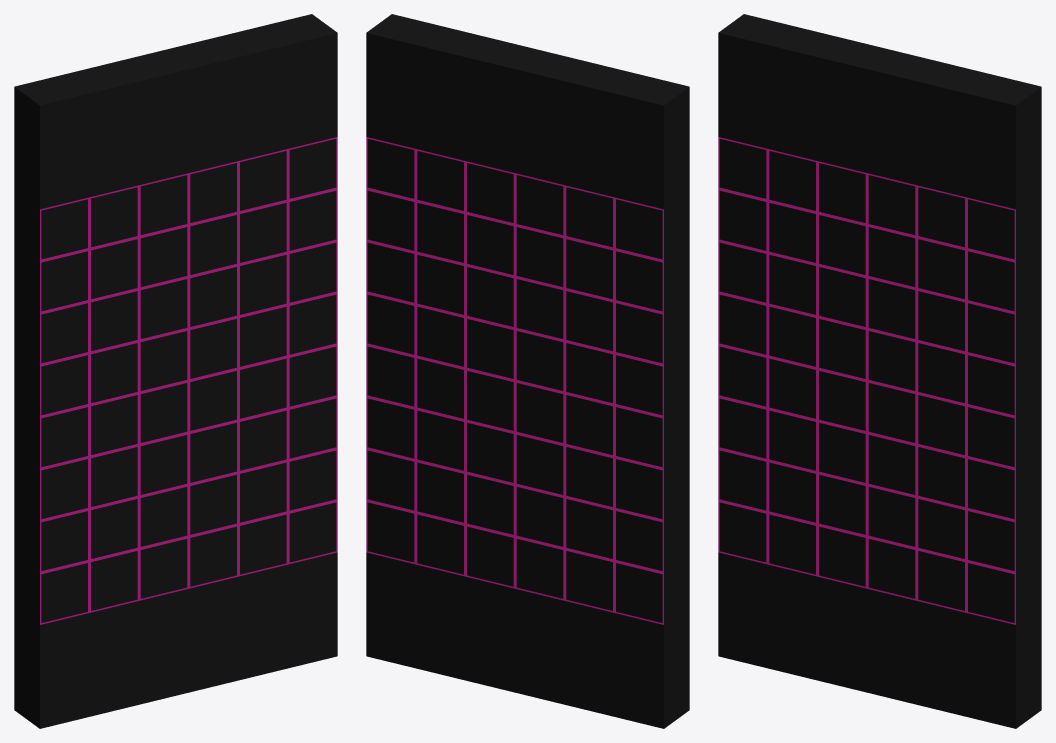
Rendered from LEDGridWall.glb.
The picture shows the model from 3 angles, left to right: view 1: azimuth 30°, elevation 25°; view 2: azimuth 150°, elevation 25°; view 3: azimuth 330°, elevation 25°; orthographic projection.
Parts seen in each view (by area): view 1: wall_grid; view 2: wall_grid; view 3: wall_grid.
Boxes of the visible parts, bbox=[...] form: wall_grid: bbox=[14, 14, 337, 728]; wall_grid: bbox=[366, 14, 689, 728]; wall_grid: bbox=[718, 14, 1041, 728].
Size of what is drawn, in the model's own units: 2 by 4 by 0.3.
Materials: 2 (2 with a texture image).
